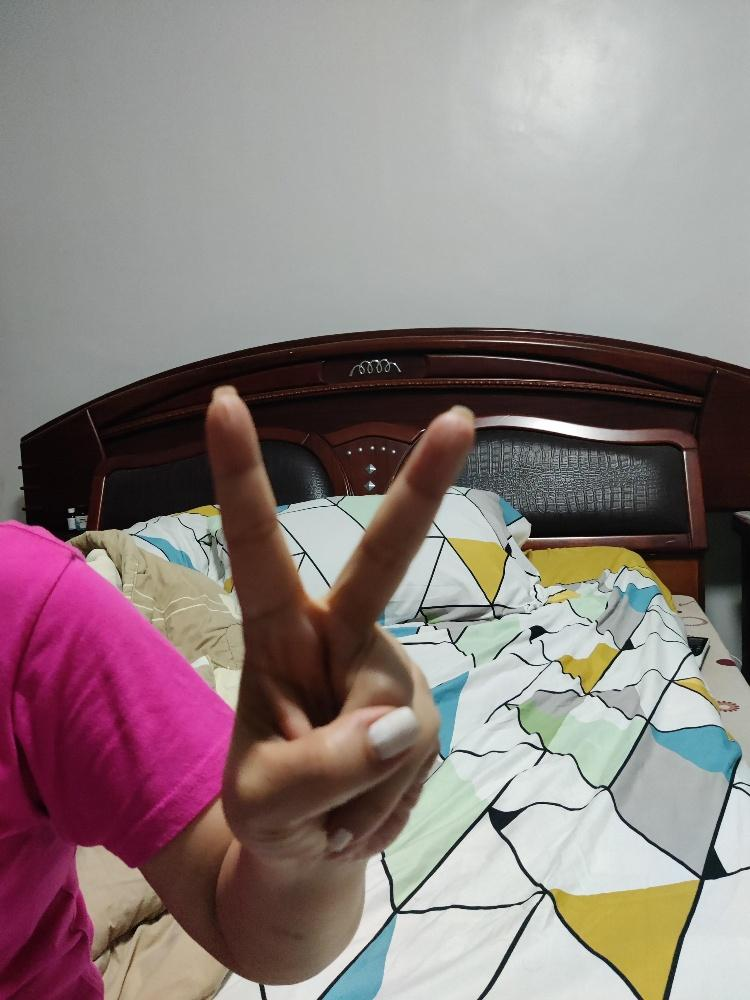v: (203, 381, 478, 869)
